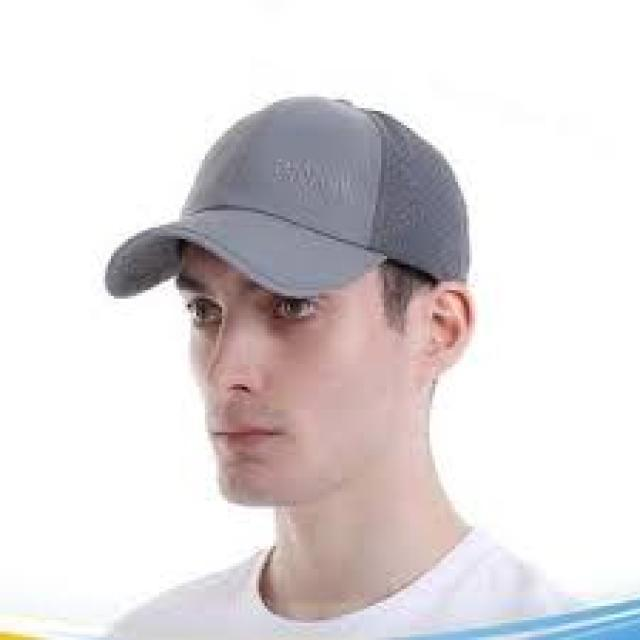cap: (88, 76, 494, 350)
